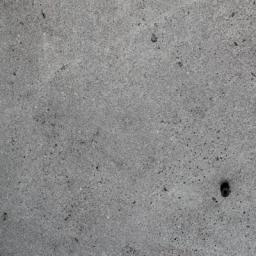FOD: (218, 178, 234, 202)
